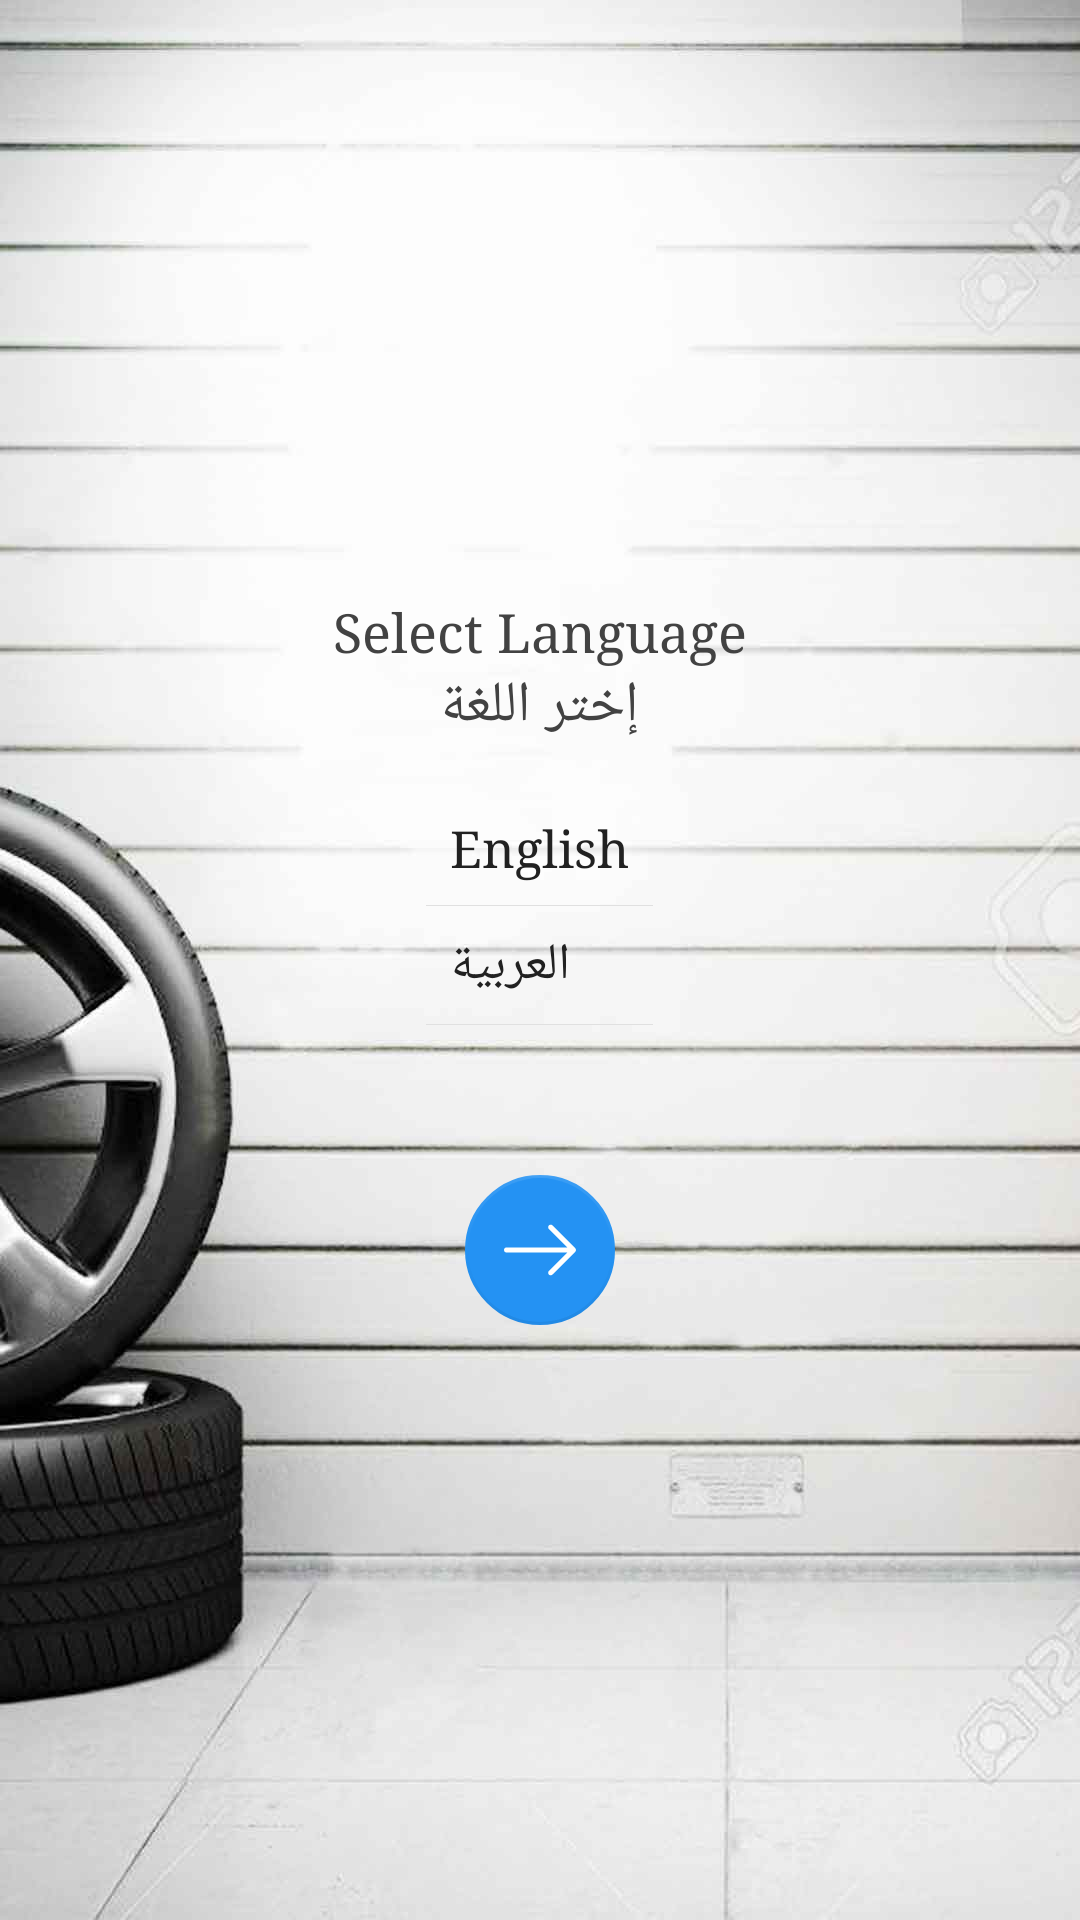

Icon bounding boxes for this 1080px x 1920px phone screenshot, format box(x1, y1, x2, y2):
next arrow: box(465, 1175, 615, 1325)
